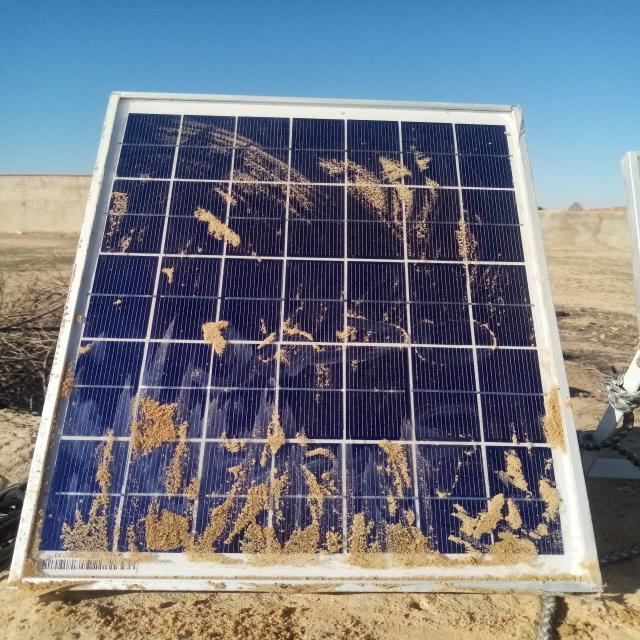faulty: (12, 94, 599, 588)
